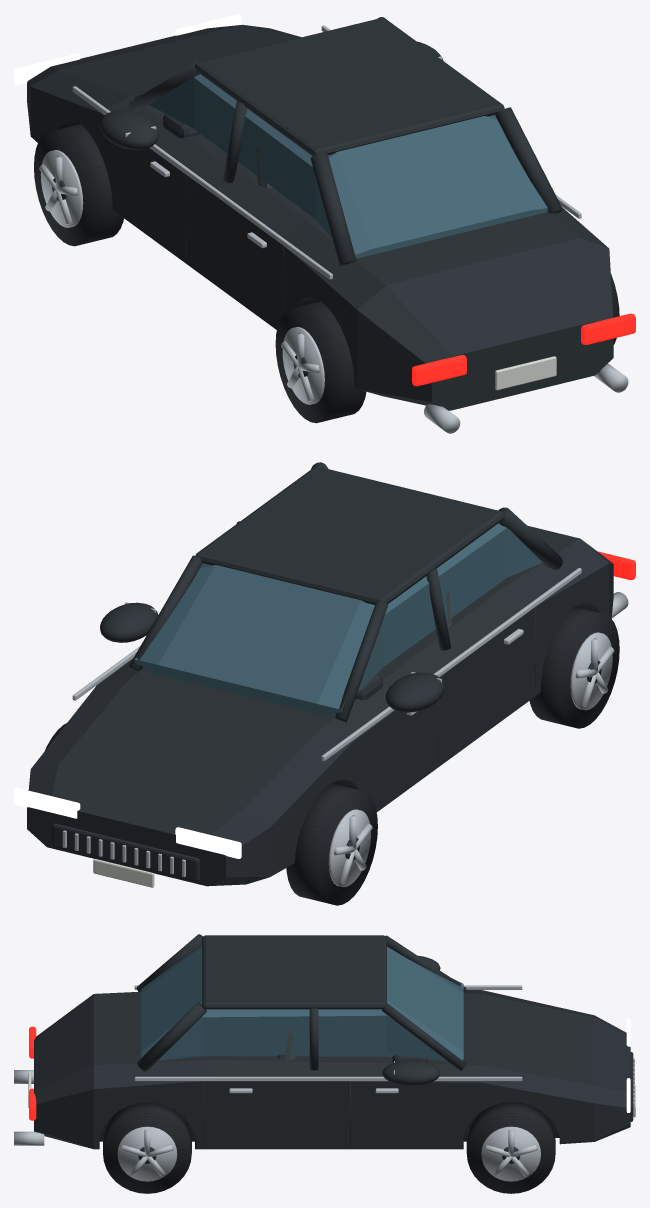
Rendered from mc_muscle.glb.
3 views of the same model, one above another, from view 1: azimuth 30°, elevation 25°; view 2: azimuth 150°, elevation 25°; view 3: azimuth 270°, elevation 25° (orthographic). The views are drawn at different scales.
Visible parts, largest first — view 1: mc_muscle__Geometry, mc_muscle__Wheel_L, mc_muscle__Wheel_L.001; view 2: mc_muscle__Geometry, mc_muscle__Wheel_L.001, mc_muscle__Wheel_L; view 3: mc_muscle__Geometry, mc_muscle__Wheel_R.001, mc_muscle__Wheel_R.
Part boxes in pixels (bbox=[...]): mc_muscle__Geometry: bbox=[14, 14, 635, 433]; mc_muscle__Wheel_L: bbox=[275, 301, 366, 423]; mc_muscle__Wheel_L.001: bbox=[34, 124, 123, 246]; mc_muscle__Geometry: bbox=[14, 462, 635, 887]; mc_muscle__Wheel_L.001: bbox=[286, 783, 377, 905]; mc_muscle__Wheel_L: bbox=[529, 607, 619, 728]; mc_muscle__Geometry: bbox=[14, 934, 635, 1181]; mc_muscle__Wheel_R.001: bbox=[466, 1102, 555, 1193]; mc_muscle__Wheel_R: bbox=[103, 1102, 191, 1193].
Bounding box in the file's own units: 2.36 × 1.56 × 5.11.
Materials: 8 (2 with a texture image).
